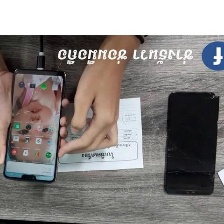phone: (0, 63, 70, 186), (160, 86, 221, 200)
